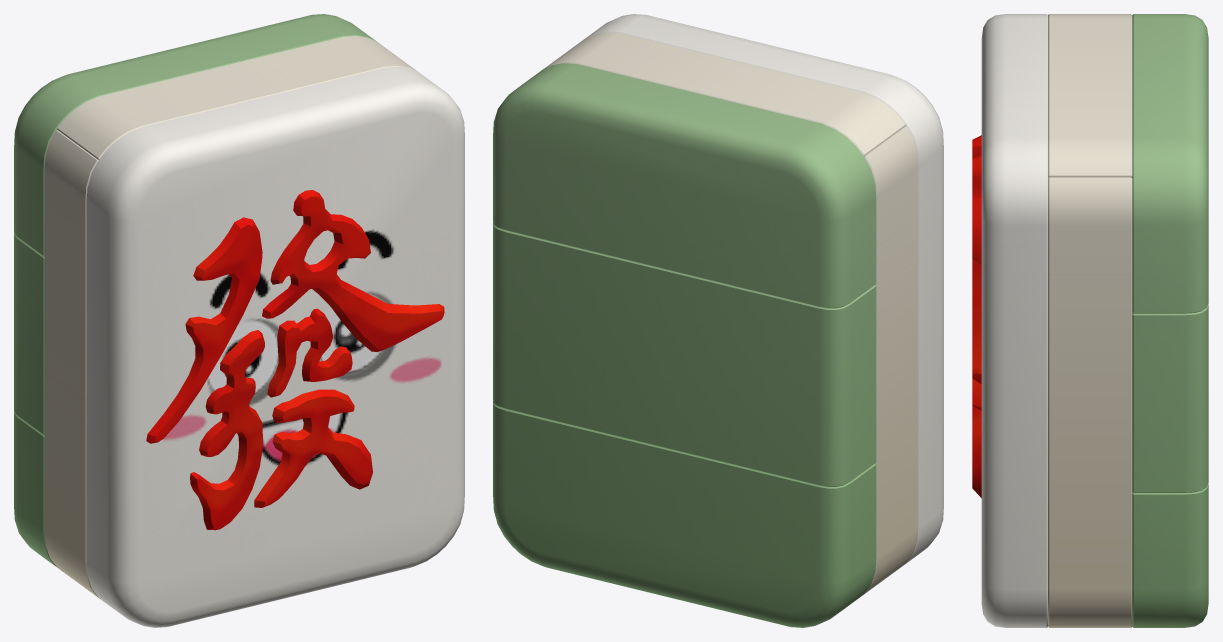
File: level_190.fbx
The picture shows the model from 3 angles, left to right: view 1: azimuth 30°, elevation 25°; view 2: azimuth 150°, elevation 25°; view 3: azimuth 270°, elevation 25°; orthographic projection.
Visible parts, largest first — view 1: Cube_L1_3.003, Cube_L1.004, Cube_L2.004, Cube_L1_2.003, Cube_L2_1.003, Cube_L2_2.003; view 2: Cube_L2_1.003, Cube_L2.004, Cube_L2_2.003, Cube_L1_3.003, Cube_L1.004, Cube_L1_2.003; view 3: Cube_L1_3.003, Cube_L1_4.003, Cube_L2.004, Cube_L1_2.003, Cube_L2_1.003, Cube_L2_2.003.
Part boxes in pixels (bbox=[...]): Cube_L1_3.003: bbox=[86, 66, 464, 627]; Cube_L1.004: bbox=[44, 130, 98, 597]; Cube_L2.004: bbox=[14, 14, 376, 256]; Cube_L1_2.003: bbox=[57, 36, 419, 159]; Cube_L2_1.003: bbox=[14, 234, 44, 434]; Cube_L2_2.003: bbox=[14, 412, 62, 571]; Cube_L2_1.003: bbox=[493, 222, 876, 486]; Cube_L2.004: bbox=[493, 63, 876, 308]; Cube_L2_2.003: bbox=[493, 401, 876, 627]; Cube_L1_3.003: bbox=[586, 14, 943, 567]; Cube_L1.004: bbox=[864, 126, 918, 593]; Cube_L1_2.003: bbox=[544, 32, 905, 156]; Cube_L1_3.003: bbox=[972, 14, 1047, 627]; Cube_L1_4.003: bbox=[1048, 177, 1132, 625]; Cube_L2.004: bbox=[1132, 14, 1208, 313]; Cube_L1_2.003: bbox=[1048, 14, 1132, 177]; Cube_L2_1.003: bbox=[1132, 303, 1208, 492]; Cube_L2_2.003: bbox=[1132, 483, 1208, 627].
Size of the model in its own units: 10.88 by 14.17 by 6.26.
